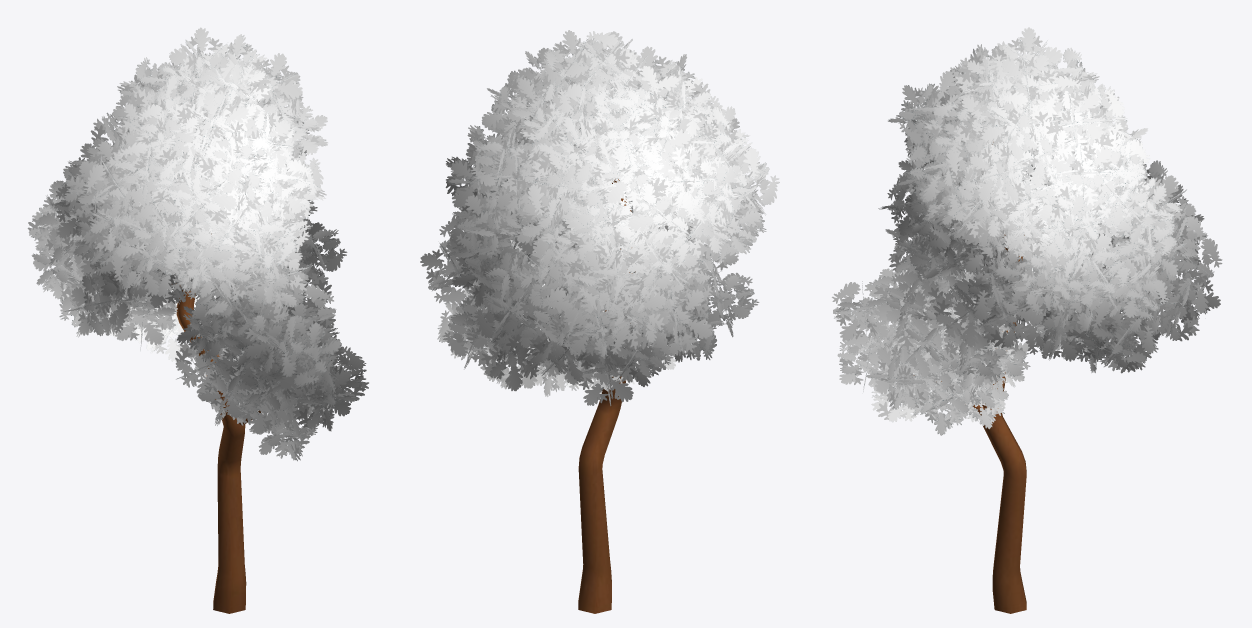
File: STOak1.glb
3 renders of one model, left to right at view 1: azimuth 30°, elevation 25°; view 2: azimuth 150°, elevation 25°; view 3: azimuth 270°, elevation 25°, orthographic. The views are drawn at different scales.
Visible parts, largest first — view 1: Leaf.016; view 2: Leaf.016; view 3: Leaf.016.
Part boxes in pixels (bbox=[...]): Leaf.016: bbox=[27, 27, 368, 613]; Leaf.016: bbox=[420, 30, 779, 613]; Leaf.016: bbox=[832, 27, 1222, 613].
Size of the model in its own units: 11.63 by 21.8 by 14.22.
Materials: 2 (2 with a texture image).
